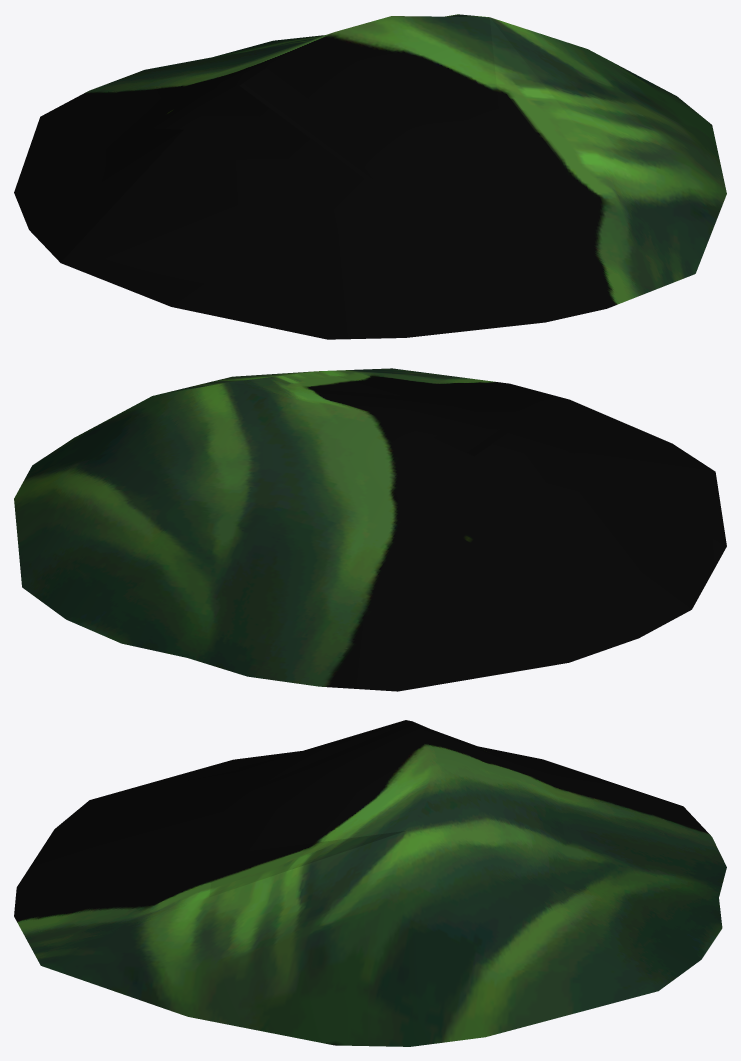
File: dirt.FBX
3 renders of one model, top to bottom at view 1: azimuth 30°, elevation 25°; view 2: azimuth 150°, elevation 25°; view 3: azimuth 270°, elevation 25°, orthographic. The views are drawn at different scales.
Visible parts, largest first — view 1: Mesh_0023; view 2: Mesh_0023; view 3: Mesh_0023.
Boxes of the visible parts, <box> form: Mesh_0023: <box>14,14,726,339</box>; Mesh_0023: <box>14,368,726,691</box>; Mesh_0023: <box>14,720,726,1046</box>.
Bounding box in the file's own units: 127 × 26.93 × 126.
